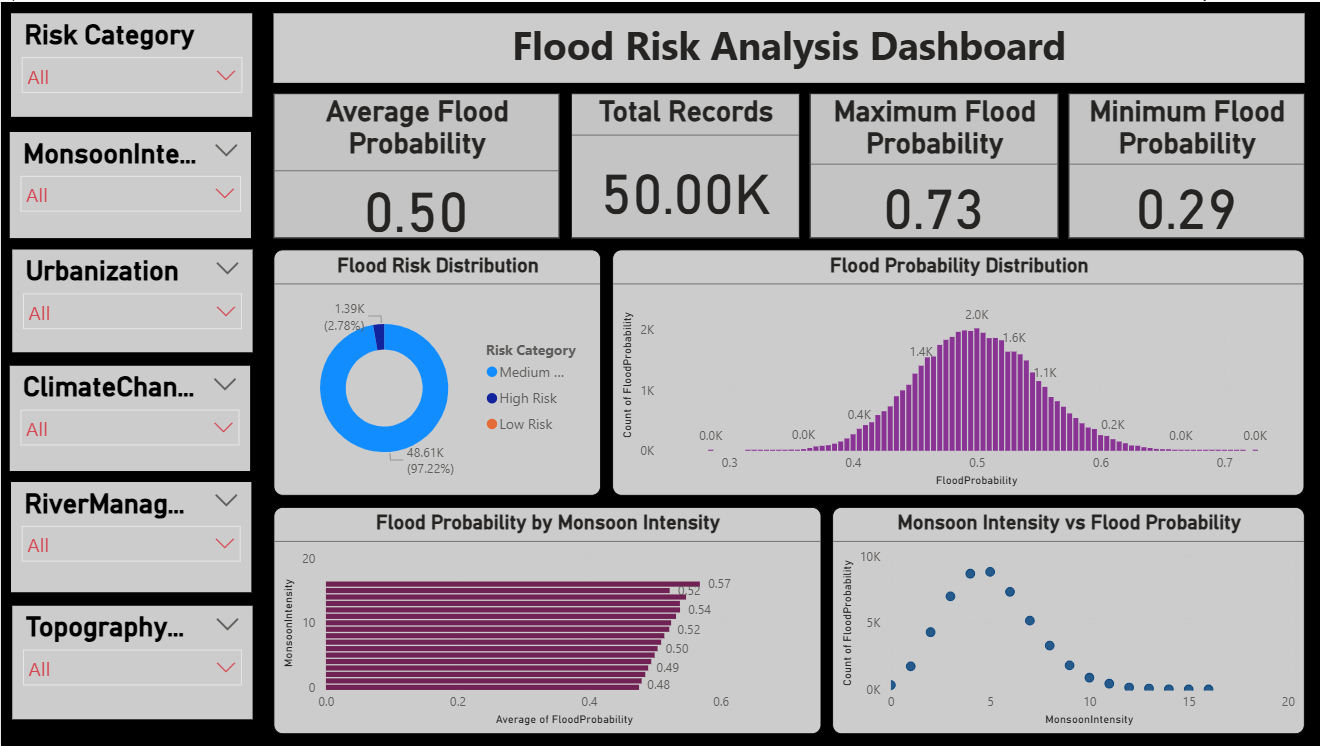

The page's visual inventory and layout, read from the dashboard file:
{"tool":"powerbi","page":{"name":"Page 1","canvas":[1280,720],"ordinal":0},"visuals":[{"type":"textbox","box":[263,10.9,995.3,67.6],"z":0},{"type":"card","title":"Total Records","fields":{"Values":["CountNonNull(flood.FloodProbability)"]},"box":[550.1,88.1,220.8,139.9],"z":1000},{"type":"card","title":"Average Flood Probability","fields":{"Values":["Avg(flood.FloodProbability)"]},"box":[263,88.1,276.3,139.9],"z":2000},{"type":"card","title":"Maximum Flood Probability","fields":{"Values":["Max(flood.FloodProbability)"]},"box":[780.6,88.1,249.7,139.9],"z":3000},{"type":"card","title":"Minimum Flood Probability","fields":{"Values":["Min(flood.FloodProbability)"]},"box":[1030.3,88.1,228,139.9],"z":4000},{"type":"donutChart","title":"Flood Risk Distribution","fields":{"Category":["flood.Risk Category"],"Y":["CountNonNull(flood.FloodProbability)"]},"box":[263,238.9,316.1,237.7],"z":5000},{"type":"clusteredColumnChart","title":"Flood Probability Distribution","fields":{"Category":["flood.FloodProbability"],"Y":["CountNonNull(flood.FloodProbability)"]},"box":[589.9,238.9,668.4,237.7],"z":6000},{"type":"clusteredBarChart","title":"Flood Probability by Monsoon Intensity","fields":{"Category":["flood.MonsoonIntensity"],"Y":["Avg(flood.FloodProbability)"]},"box":[263,487.4,528.4,219.6],"z":7000},{"type":"scatterChart","title":"Monsoon Intensity vs Flood Probability","fields":{"X":["flood.MonsoonIntensity"],"Y":["CountNonNull(flood.FloodProbability)"]},"box":[802.3,487.4,456,219.6],"z":8000},{"type":"slicer","fields":{"Values":["flood.Risk Category"]},"box":[9.7,10.9,232.8,100.1],"z":9000},{"type":"slicer","fields":{"Values":["flood.MonsoonIntensity"]},"box":[8.4,125.5,232.8,102.5],"z":10000},{"type":"slicer","fields":{"Values":["flood.Urbanization"]},"box":[10.9,238.9,231.6,98.9],"z":11000},{"type":"slicer","fields":{"Values":["flood.ClimateChange"]},"box":[8.4,351.1,231.6,101.3],"z":12000},{"type":"slicer","fields":{"Values":["flood.RiverManagement"]},"box":[9.7,463.3,231.6,106.2],"z":13000},{"type":"slicer","fields":{"Values":["flood.TopographyDrainage"]},"box":[10.9,582.7,231.6,109.8],"z":14000}]}

Visuals, with their boxes in screenshot pixels (x1, y1, x2, y2), scaled from the page's 1280x720 canvas onto the 1320x746 screenshot:
textbox: <region>271, 11, 1298, 81</region>
"Total Records" card: <region>567, 91, 795, 236</region>
"Average Flood Probability" card: <region>271, 91, 556, 236</region>
"Maximum Flood Probability" card: <region>805, 91, 1062, 236</region>
"Minimum Flood Probability" card: <region>1062, 91, 1298, 236</region>
"Flood Risk Distribution" donutChart: <region>271, 248, 597, 494</region>
"Flood Probability Distribution" clusteredColumnChart: <region>608, 248, 1298, 494</region>
"Flood Probability by Monsoon Intensity" clusteredBarChart: <region>271, 505, 816, 733</region>
"Monsoon Intensity vs Flood Probability" scatterChart: <region>827, 505, 1298, 733</region>
slicer - flood.Risk Category: <region>10, 11, 250, 115</region>
slicer - flood.MonsoonIntensity: <region>9, 130, 249, 236</region>
slicer - flood.Urbanization: <region>11, 248, 250, 350</region>
slicer - flood.ClimateChange: <region>9, 364, 248, 469</region>
slicer - flood.RiverManagement: <region>10, 480, 249, 590</region>
slicer - flood.TopographyDrainage: <region>11, 604, 250, 718</region>
